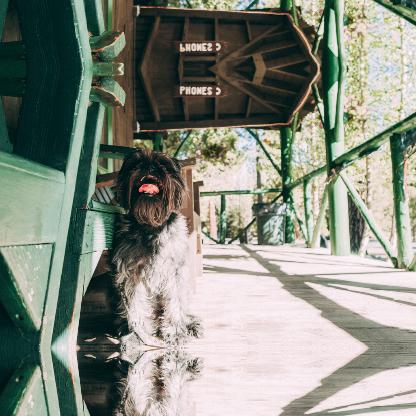Dog: (103, 143, 205, 347), (103, 348, 206, 415)
